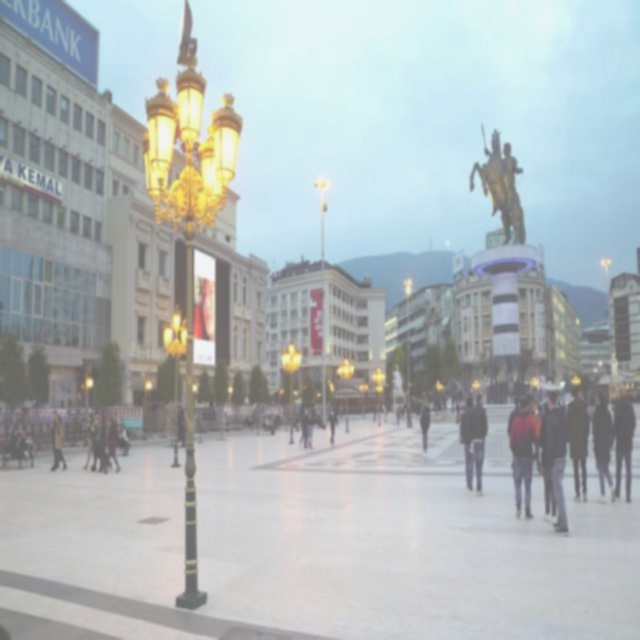pessoa: (479, 118, 527, 245), (508, 392, 540, 520), (544, 387, 570, 537), (608, 381, 636, 504), (564, 381, 592, 503), (590, 386, 618, 504), (538, 394, 560, 526), (469, 393, 489, 499), (192, 272, 216, 343), (505, 394, 523, 486), (460, 394, 476, 492), (527, 398, 543, 478), (102, 413, 121, 475), (49, 412, 68, 472), (96, 414, 112, 474), (82, 412, 97, 470), (9, 426, 28, 471), (90, 416, 103, 472), (48, 408, 59, 470), (419, 404, 431, 454), (304, 401, 316, 451), (298, 402, 309, 450), (326, 404, 338, 447), (23, 434, 36, 470), (118, 421, 128, 456), (17, 431, 27, 466), (118, 422, 130, 450), (458, 404, 466, 444), (264, 413, 274, 436), (454, 398, 462, 424), (394, 403, 400, 428), (372, 402, 378, 422), (382, 402, 388, 422), (268, 412, 274, 427)
